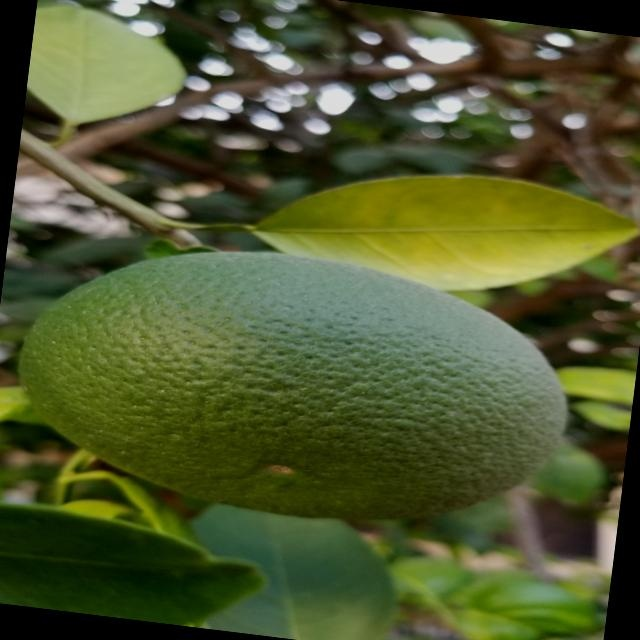agrume: (0, 220, 590, 553)
